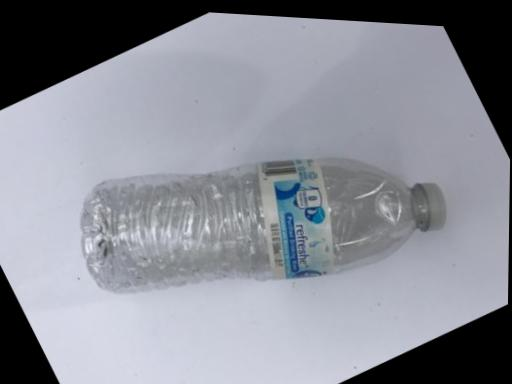plastic: (6, 30, 474, 383)
